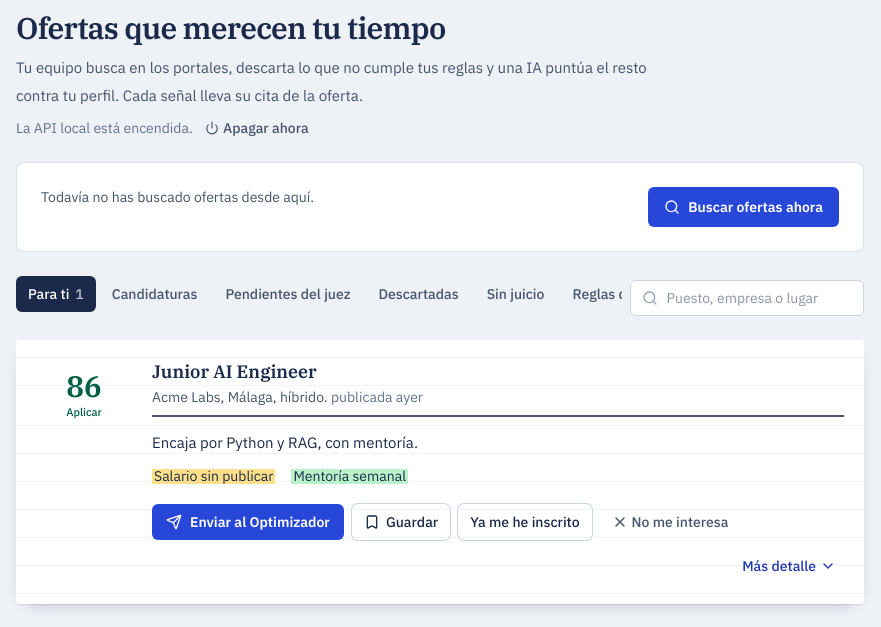
Test: HunterView › "No me interesa" actualiza la ficha
The width and height of the screenshot is (881, 627).
Click the button "No me interesa" at (670, 522), box top-left (600, 504), bottom-right (740, 540)
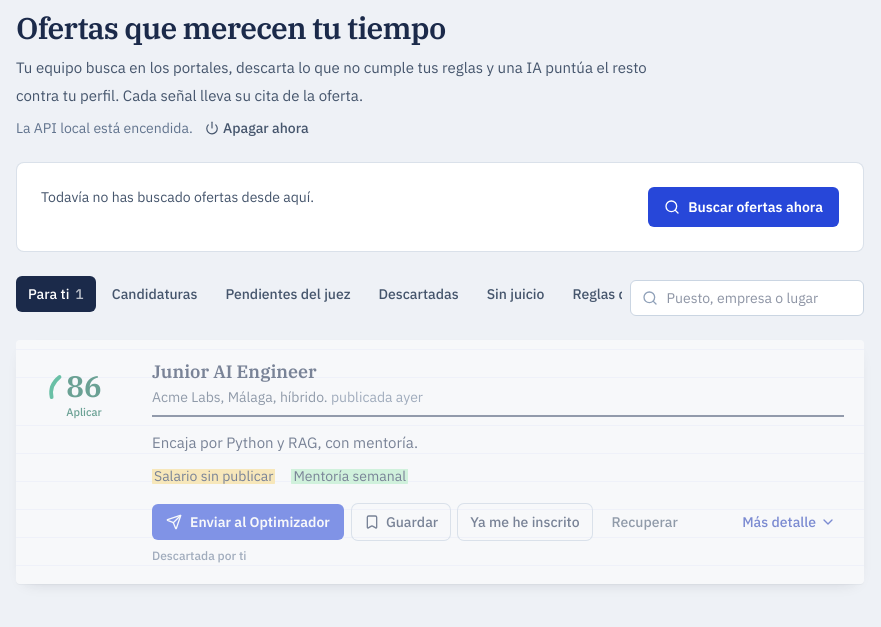
Expected: the text "Descartada por ti" is shown, top-left (152, 548), bottom-right (246, 562)
